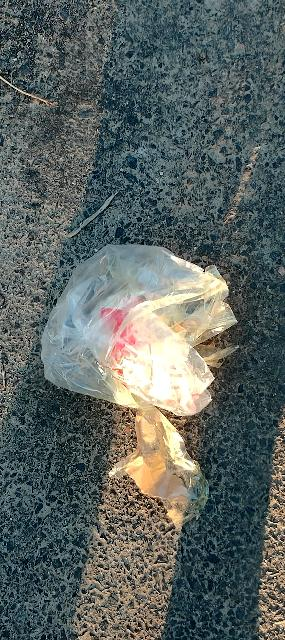polythene: (10, 194, 280, 466)
